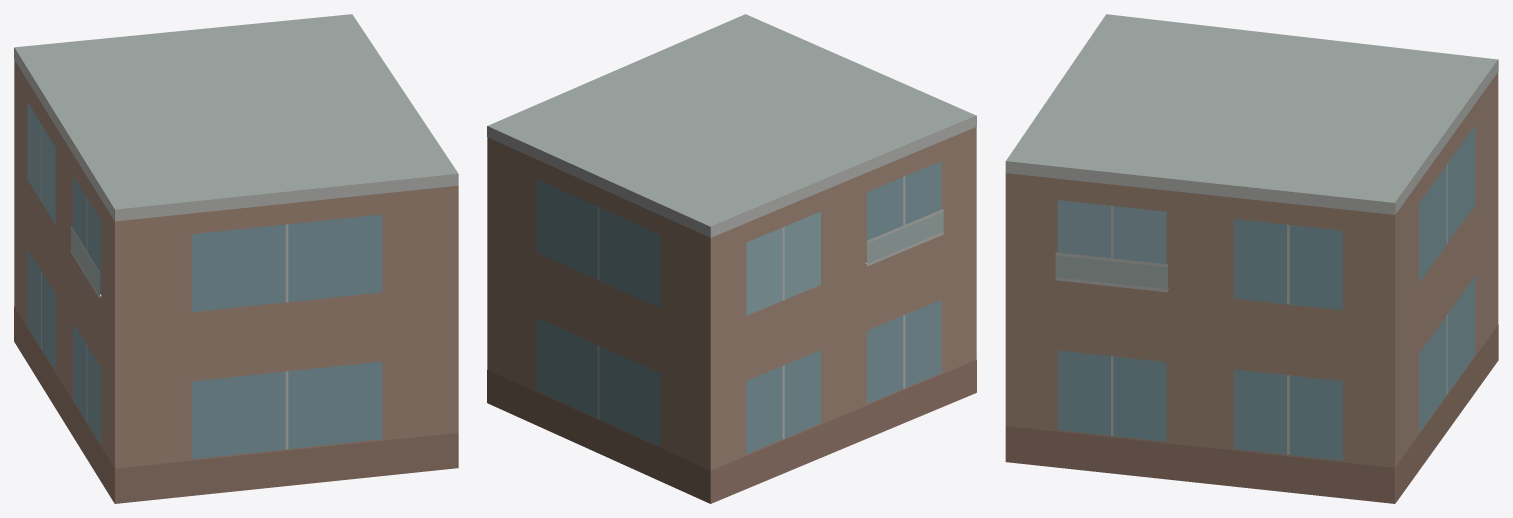
The model's file is survey-upis-32870602.glb.
3 views of the same model, side by side, from view 1: azimuth 30°, elevation 25°; view 2: azimuth 150°, elevation 25°; view 3: azimuth 270°, elevation 25° (orthographic). The views are drawn at different scales.
Parts seen in each view (by area): view 1: survey-upis-32870602.tmp; view 2: survey-upis-32870602.tmp; view 3: survey-upis-32870602.tmp.
Boxes of the visible parts, box(x1,y1,x2,y2) form: survey-upis-32870602.tmp: box(14, 14, 458, 503); survey-upis-32870602.tmp: box(487, 14, 976, 503); survey-upis-32870602.tmp: box(1005, 14, 1498, 503).
Size of the model in its own units: 8.23 by 6.1 by 9.06.
